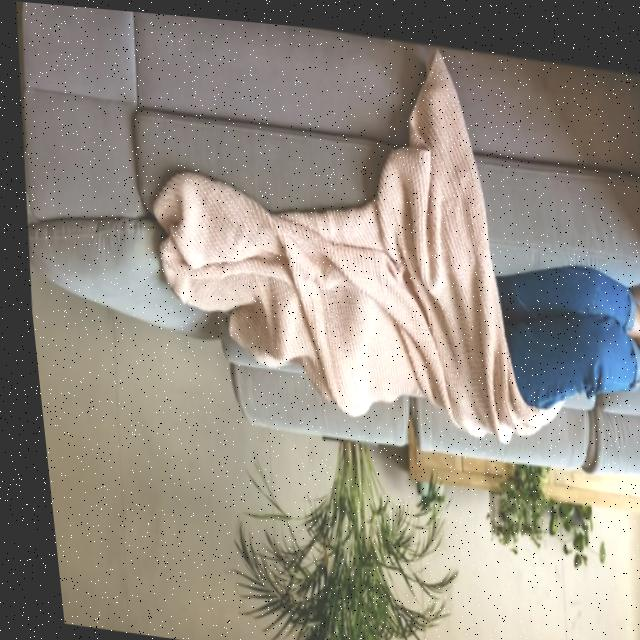sleeping-person: (129, 104, 640, 476)
